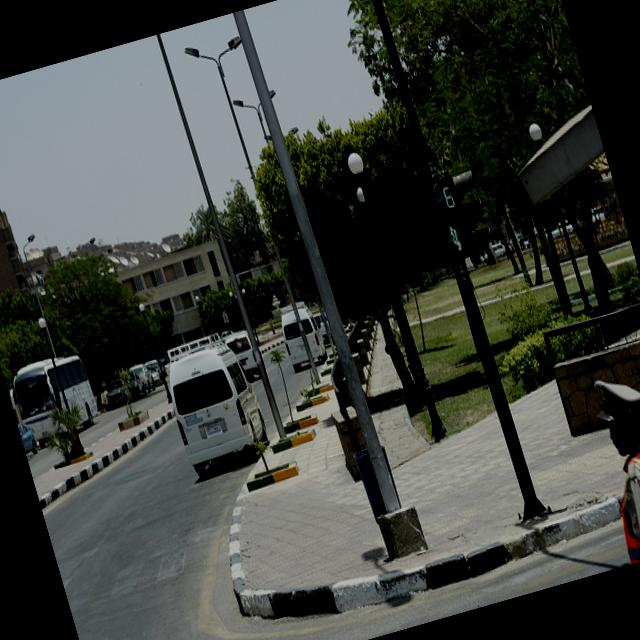Vehicle: (153, 324, 276, 480), (7, 352, 103, 448), (276, 302, 330, 375), (222, 327, 260, 382), (165, 331, 222, 360), (124, 361, 158, 400), (102, 375, 132, 409), (312, 308, 336, 348), (16, 420, 40, 456), (143, 358, 165, 388), (491, 241, 507, 258), (159, 360, 167, 376)
